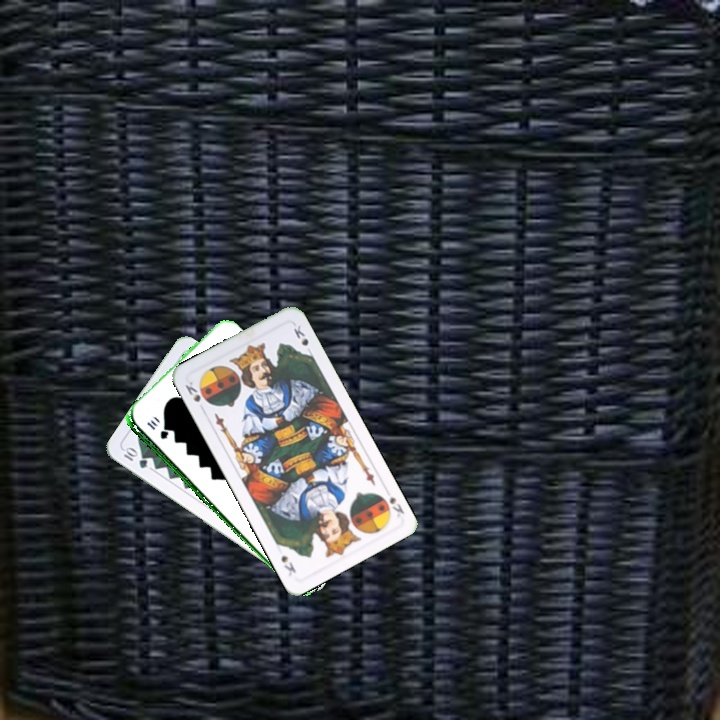G10: (120, 444, 151, 471), (143, 416, 170, 442)
SK: (181, 377, 207, 414), (385, 492, 407, 519)
